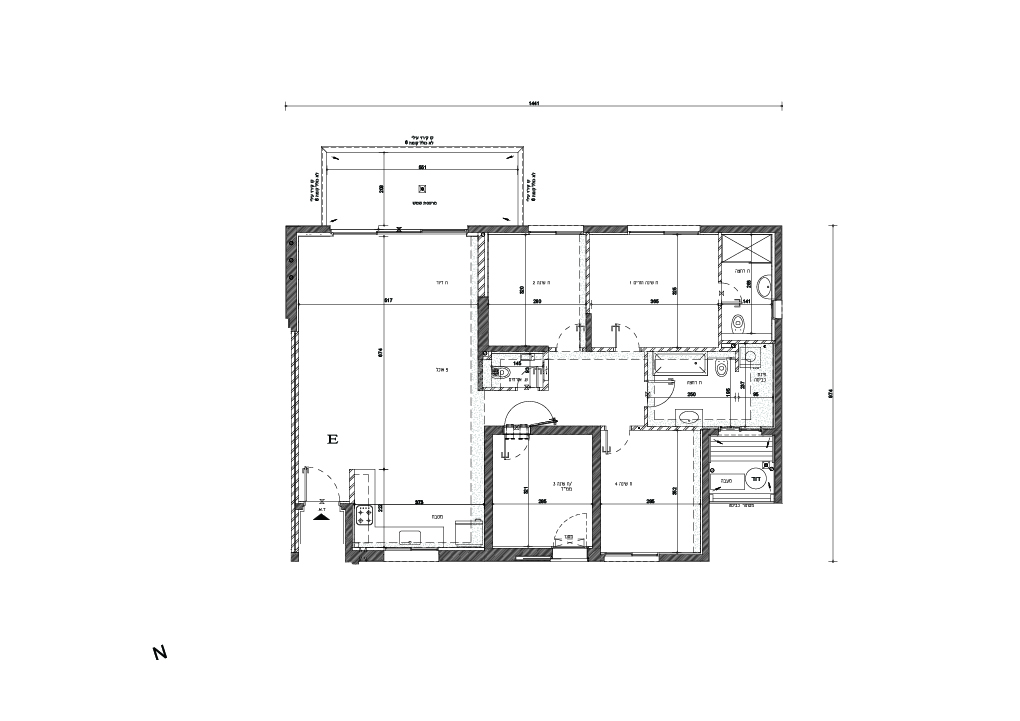wall: (484, 425, 493, 562), (702, 427, 710, 561), (593, 425, 601, 553), (286, 226, 296, 315), (467, 225, 528, 231), (284, 226, 330, 233)
